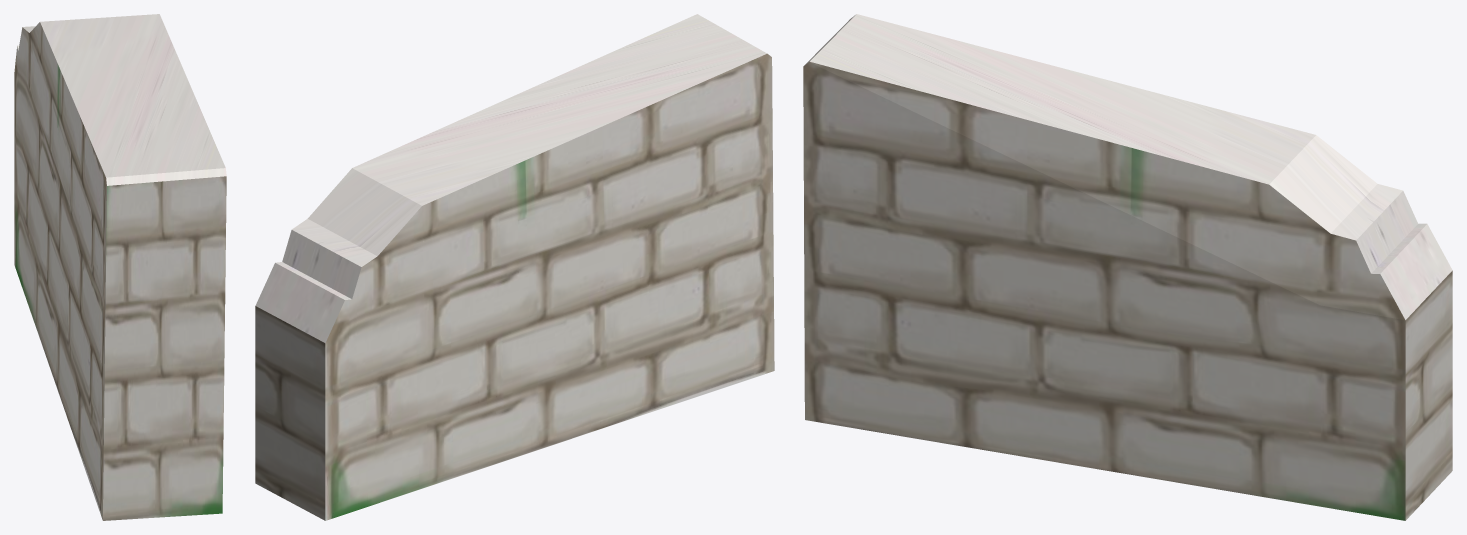
The model's file is 殘壁半牆.fbx.
The picture shows the model from 3 angles, left to right: view 1: azimuth 30°, elevation 25°; view 2: azimuth 150°, elevation 25°; view 3: azimuth 270°, elevation 25°; orthographic projection. The views are drawn at different scales.
Parts seen in each view (by area): view 1: 立方體.009; view 2: 立方體.009; view 3: 立方體.009.
Part boxes in pixels (box(x1,y1,x2,y2)): 立方體.009: box(14, 14, 226, 520); 立方體.009: box(255, 14, 774, 520); 立方體.009: box(803, 14, 1452, 520).
Bounding box in the file's own units: 335 × 373 × 608.
1 material, 1 textured.
